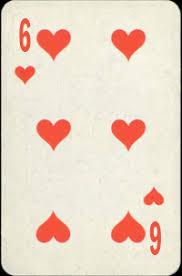six of hearts: (1, 2, 181, 276)
